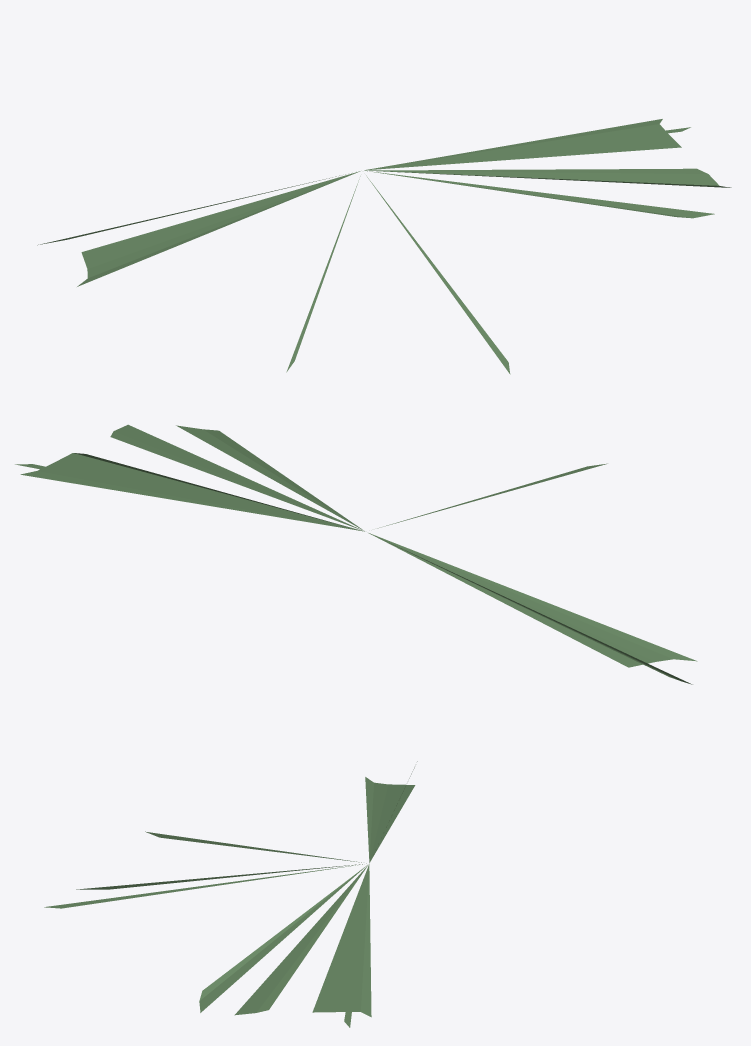
The model's file is c_1671_17826_forest.glb.
3 views of the same model, one above another, from view 1: azimuth 30°, elevation 25°; view 2: azimuth 150°, elevation 25°; view 3: azimuth 270°, elevation 25° (orthographic). The views are drawn at different scales.
Visible parts, largest first — view 1: geometry_0; view 2: geometry_0; view 3: geometry_0.
Part boxes in pixels (bbox=[...]): geometry_0: bbox=[37, 119, 731, 374]; geometry_0: bbox=[15, 424, 697, 684]; geometry_0: bbox=[44, 761, 417, 1027].
Bounding box in the file's own units: 522 × 62.1 × 567.
